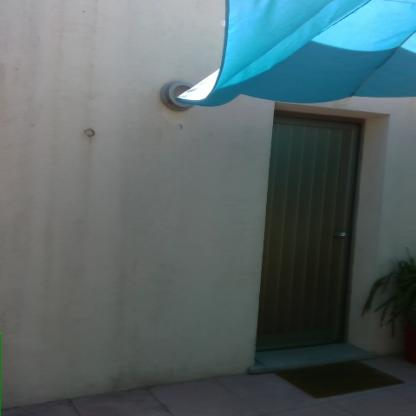closed: (258, 103, 386, 361)
